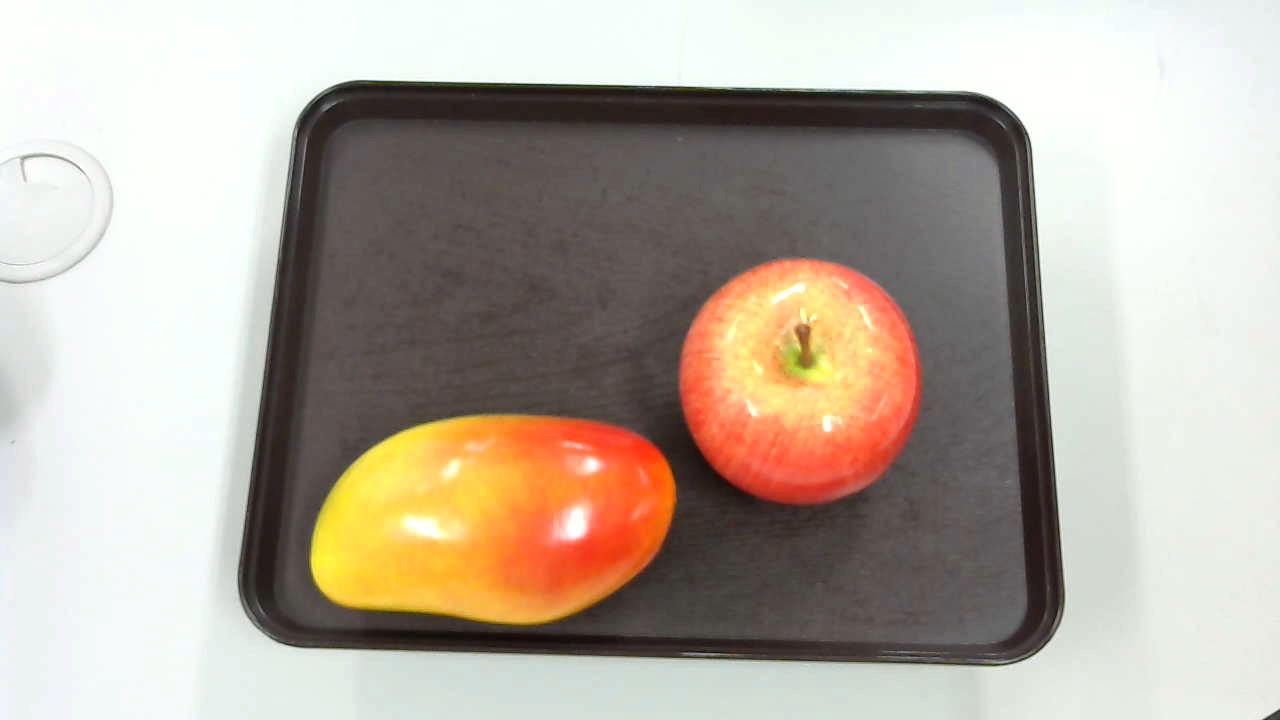red apple: (680, 258, 918, 507)
red mango: (307, 415, 680, 629)
